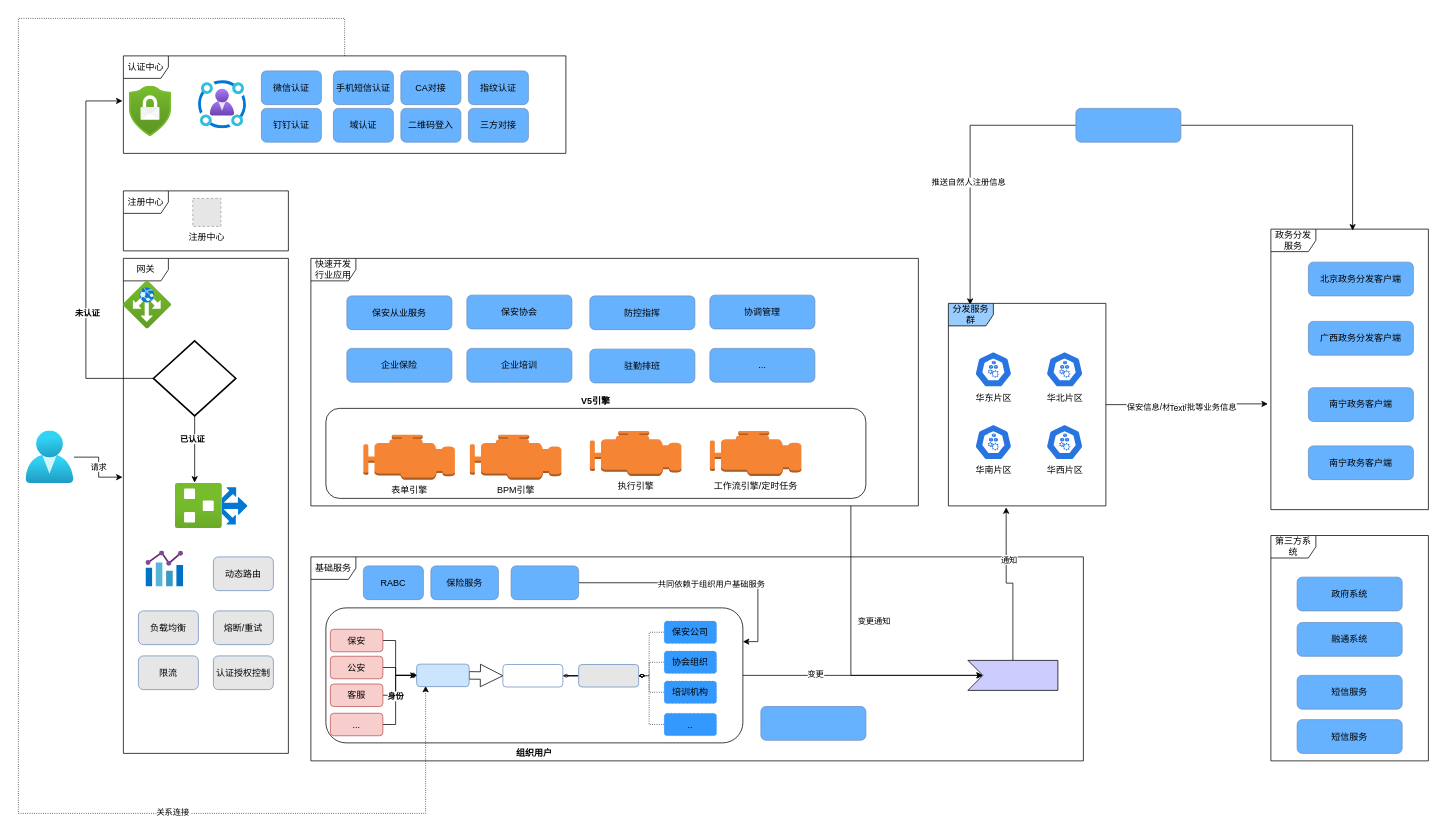
Some shapes in this 1442 by 833 pixel diagram are drawn without their labels. Grey dashed boxes stand in for pictures. Here are the shapes that lost their labels. From the top down, the centre of each, then its label:
(222,104): 账号密码
(1128,125): 各地政务外网
(194,378): 是否登入?
(164,568): 监控
(544,582): 其他公共服务
(442,675): 用户
(532,675): 平台默认组
(608,675): 团体
(1012,675): 事件总线
(813,723): Web Hook 注册集
